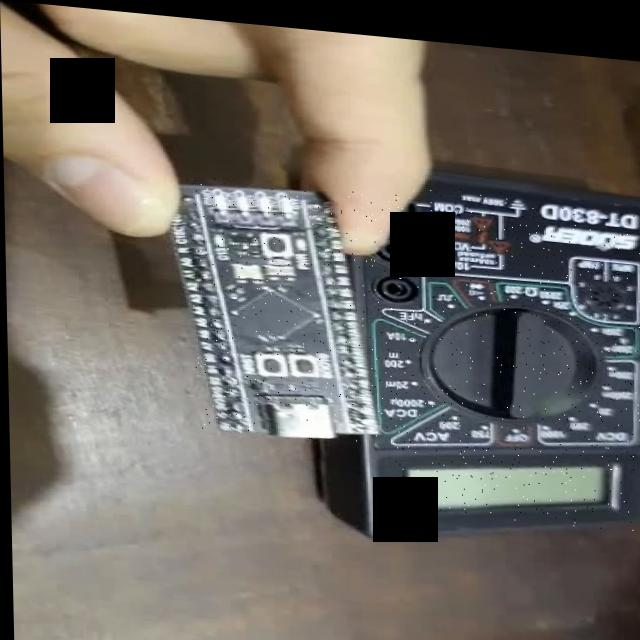multimeter: (381, 173, 640, 522)
stm32: (190, 172, 393, 439)
